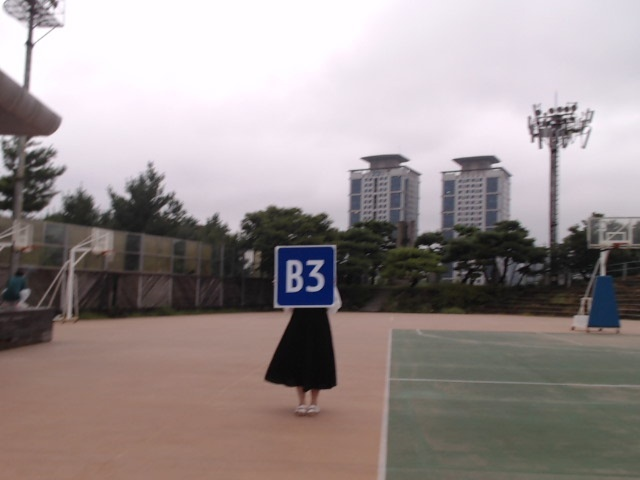delivery_b3: (275, 246, 336, 308)
